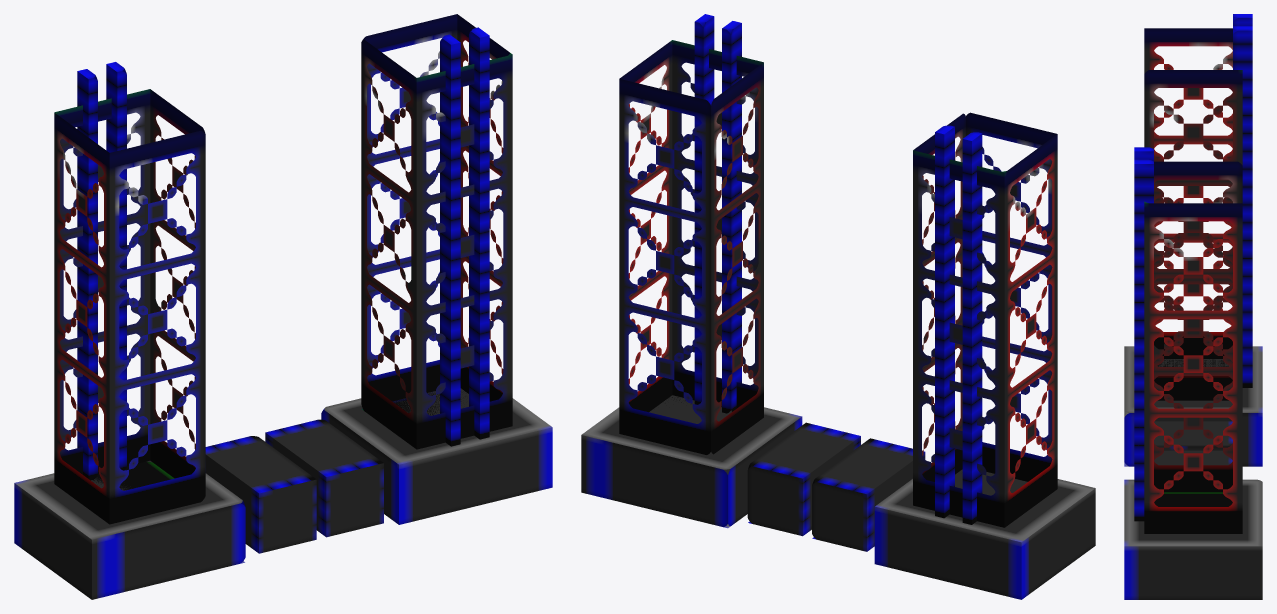
Rendered from launcher_platform_t3.obj.
3 views of the same model, side by side, from view 1: azimuth 30°, elevation 25°; view 2: azimuth 150°, elevation 25°; view 3: azimuth 270°, elevation 25° (orthographic). The views are drawn at different scales.
Parts seen in each view (by area): view 1: PillarLeft, PillarRight, BaseLeft, BaseRight, MiddleBoxLeft, MiddleBoxRight, SpikeC, SpikeD, SpikeA, SpikeB; view 2: PillarRight, PillarLeft, BaseLeft, BaseRight, SpikeA, MiddleBoxLeft, MiddleBoxRight, SpikeB, SpikeC, SpikeD; view 3: PillarRight, PillarLeft, BaseRight, BaseLeft, SpikeD, SpikeB, MiddleBoxLeft, MiddleBoxRight, SpikeA, SpikeC.
Part boxes in pixels (x1,y1,x2,y2): PillarLeft: [54, 89, 205, 524]; PillarRight: [361, 14, 512, 449]; BaseLeft: [14, 460, 245, 599]; BaseRight: [321, 388, 552, 524]; MiddleBoxLeft: [205, 436, 316, 553]; MiddleBoxRight: [265, 419, 383, 537]; SpikeC: [440, 34, 460, 446]; SpikeD: [469, 27, 489, 439]; SpikeA: [77, 69, 97, 480]; SpikeB: [106, 62, 126, 470]; PillarRight: [619, 40, 763, 454]; PillarLeft: [913, 112, 1057, 527]; BaseLeft: [874, 469, 1095, 599]; BaseRight: [581, 395, 802, 528]; SpikeA: [962, 132, 982, 524]; MiddleBoxLeft: [812, 438, 925, 551]; MiddleBoxRight: [747, 422, 860, 536]; SpikeB: [935, 125, 954, 518]; SpikeC: [722, 21, 741, 413]; SpikeD: [694, 14, 714, 404]; PillarRight: [1144, 161, 1242, 533]; PillarLeft: [1144, 28, 1242, 400]; BaseRight: [1124, 479, 1262, 599]; BaseLeft: [1124, 346, 1262, 466]; SpikeD: [1134, 159, 1153, 521]; SpikeB: [1233, 26, 1252, 387]; MiddleBoxLeft: [1154, 421, 1232, 450]; MiddleBoxRight: [1154, 450, 1232, 465]; SpikeA: [1233, 14, 1252, 26]; SpikeC: [1134, 147, 1153, 161].
Size of the model in its own units: 3 by 2.88 by 0.875.
